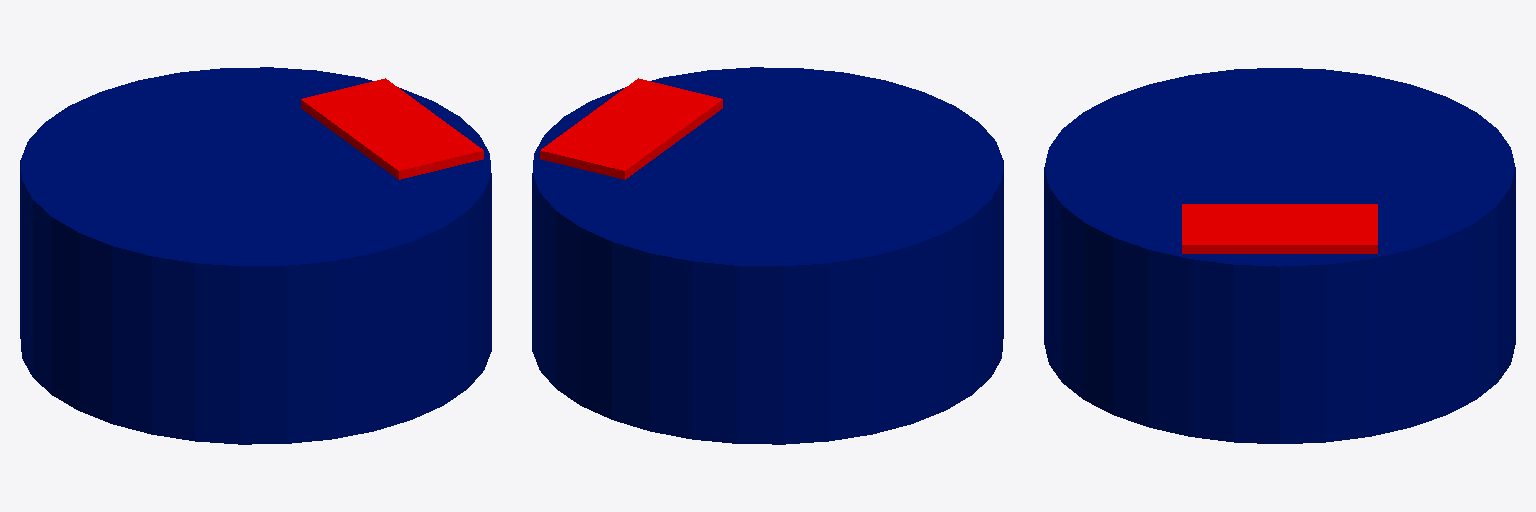
robot.urdf — Robot mecanum wheels:
<robot name="Robot mecanum wheels">
	<!-- CHASSIS LINK -->
	<link name="base_link">
		
		<inertial>
			<mass value="1"/>
		</inertial>

		<visual name="chassis">
			<origin xyz="0 0 0.06" rpy="0 0 0"/>
			<geometry>
				<cylinder radius="0.12" length="0.1"/>
			</geometry>
			<material name="">
				<color rgba="0 0.1 0.5 1"/>
			</material>
		</visual>
		
		<visual name="front_flag">
			<origin xyz="0.08 0 0.11" rpy="0 0 0"/>
			<geometry>
				<box size="0.05 0.1 0.01"/>
			</geometry>
			<material name="">
			<color rgba="1 0 0 1"/>
			</material>
		</visual>

		<collision name="chassis">
			<origin xyz="0 0 0.06" rpy="0 0 0"/>
			<geometry>
				<cylinder radius="0.12" length="0.1"/>
			</geometry>
		</collision>

	</link>
	
	<!-- FRONT RIGHT WHEEL LINK --> 
	<link name="front_right_wheel" builtin="right_mecanum_wheel">

	</link>
	
	<joint name="front_right_joint" type="continuous">
		<origin xyz="0.05 -0.13 0.03" rpy="0 0 0"/>
		<parent link="base_link"/>
		<child link="front_right_wheel"/>
		<axis xyz="0.0 1.0 0.0"/>
		<limit effort="10" velocity="5.0"/>
	</joint>
	
	<!-- FRONT LEFT WHEEL LINK -->
	<link name="front_left_wheel" builtin="left_mecanum_wheel">
		
	</link>
	
	<joint name="front_left_joint" type="continuous">
		<origin xyz="0.05 0.13 0.03" rpy="0 0 0"/>
		<parent link="base_link"/>
		<child link="front_left_wheel"/>
		<axis xyz="0.0 1.0 0.0"/>
		<limit effort="10" velocity="5.0"/>
	</joint>
	
	<!-- BACK RIGHT WHEEL LINK --> 
	<link name="back_right_wheel" builtin="left_mecanum_wheel">

	</link>
	
	<joint name="back_right_joint" type="continuous">
		<origin xyz="-0.05 -0.13 0.03" rpy="0 0 0"/>
		<parent link="base_link"/>
		<child link="back_right_wheel"/>
		<axis xyz="0.0 1.0 0.0"/>
		<limit effort="10" velocity="5.0"/>
	</joint>
	
	<!-- BACK LEFT WHEEL LINK -->
	<link name="back_left_wheel" builtin="right_mecanum_wheel">
		
	</link>
	
	<joint name="back_left_joint" type="continuous">
		<origin xyz="-0.05 0.13 0.03" rpy="0 0 0"/>
		<parent link="base_link"/>
		<child link="back_left_wheel"/>
		<axis xyz="0.0 1.0 0.0"/>
		<limit effort="10" velocity="5.0"/>
	</joint>
	
	<gobotics name="control_robot" type="4_mecanum_drive">
        <front_right_wheel joint="front_right_joint"/>
        <front_left_wheel joint="front_left_joint"/>
		<back_right_wheel joint="back_right_joint"/>
        <back_left_wheel joint="back_left_joint"/>
		<max_speed value="8.0"/>
    </gobotics>
</robot>

--- What the picture shows (computed from the rendered views, not written in the file) ---
The picture shows the robot from 3 angles, left to right: view 1: azimuth 30°, elevation 25°; view 2: azimuth 150°, elevation 25°; view 3: azimuth 270°, elevation 25°; orthographic projection.
Model Robot mecanum wheels with 5 links and 4 joints (4 continuous), rooted at base_link, posed all joints at 0.
Links seen in each view (by area): view 1: base_link; view 2: base_link; view 3: base_link.
Boxes of the visible links, x1,y1,x2,y2 form: base_link: (20, 67, 491, 444); base_link: (532, 67, 1003, 444); base_link: (1044, 68, 1515, 443).
Bounding box of the posed robot: 0.24 × 0.24 × 0.105 m (x, y, z).
Geometry: primitives only (box / cylinder / sphere), no mesh files.